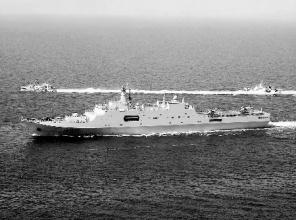warship: (16, 90, 274, 139)
